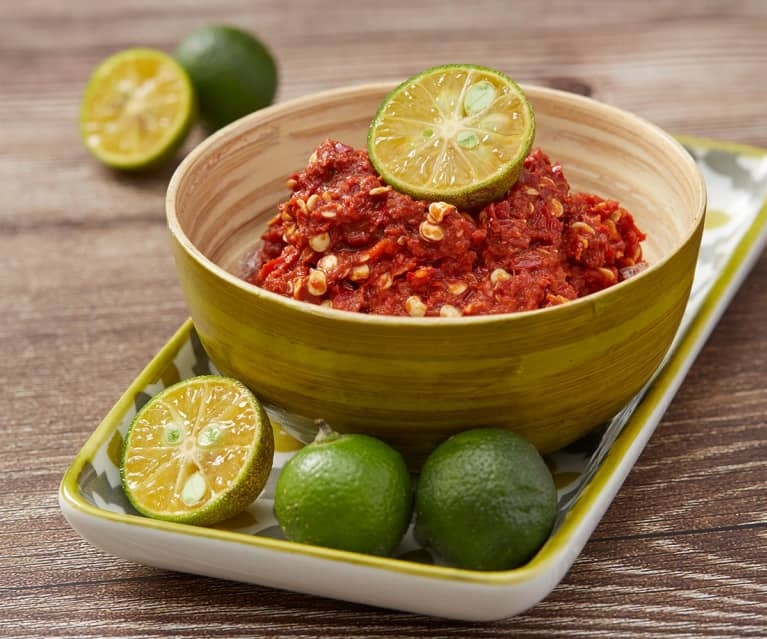sambal: (242, 136, 644, 327)
